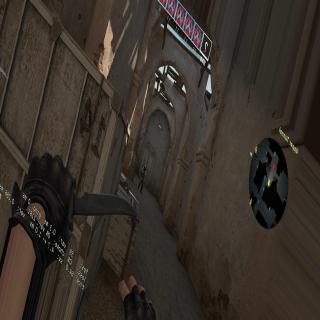CT-Body: (136, 162, 147, 193)
CT-Head: (144, 165, 146, 170)
